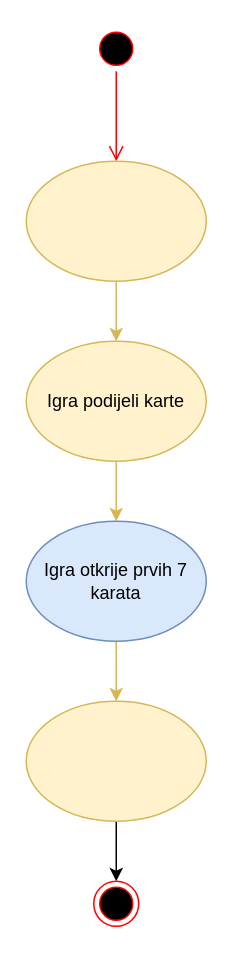
Some shapes in this 233 by 953 pixel diagram are drawn without their labels. Here are the shapes that lost their labels. From the top down, the box of each, then its label:
(25, 160, 206, 281): Igra pomiješa karte
(25, 700, 206, 821): Početak igre
